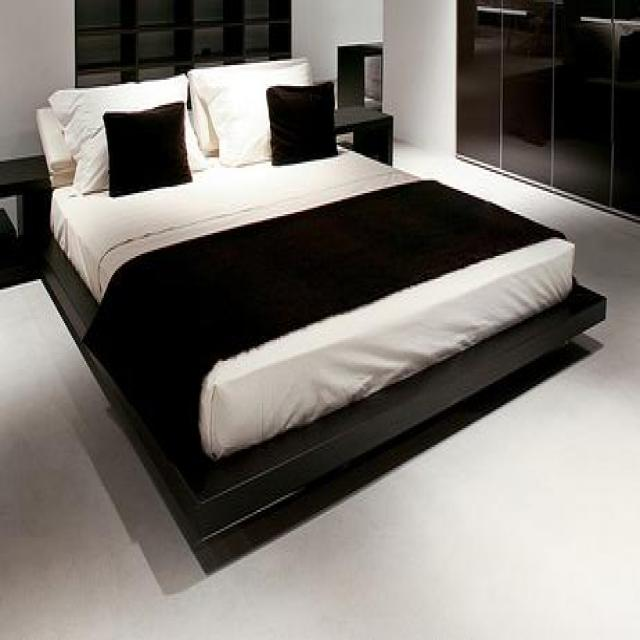bed: (36, 72, 606, 581)
